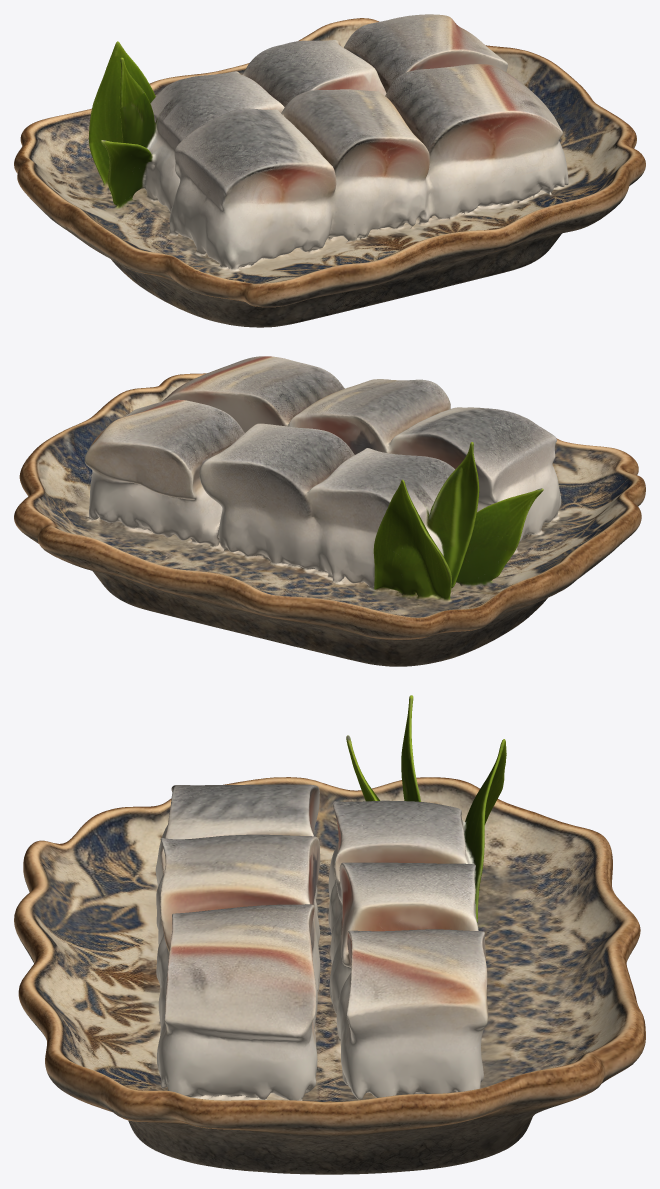
3 renders of one model, top to bottom at view 1: azimuth 30°, elevation 25°; view 2: azimuth 150°, elevation 25°; view 3: azimuth 270°, elevation 25°, orthographic. The views are drawn at different scales.
Bounding box in the file's own units: 1.9 × 0.7074 × 1.55.
Materials: 1 (1 with a texture image).
